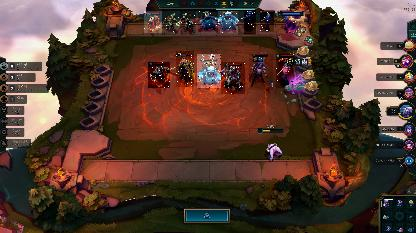1_nunu: (198, 10, 218, 32)
1_olaf: (144, 11, 162, 33)
1_pantheon: (249, 54, 273, 90)
1_wukong: (162, 12, 180, 34), (180, 10, 196, 34)
1_yone: (260, 10, 274, 32)
2_nunu: (197, 54, 221, 88), (218, 11, 238, 33)
2_olaf: (148, 62, 170, 88)
2_sejuani: (221, 62, 245, 94)
2_yone: (276, 54, 294, 88), (244, 10, 256, 34)
3_leona: (176, 51, 194, 87)
